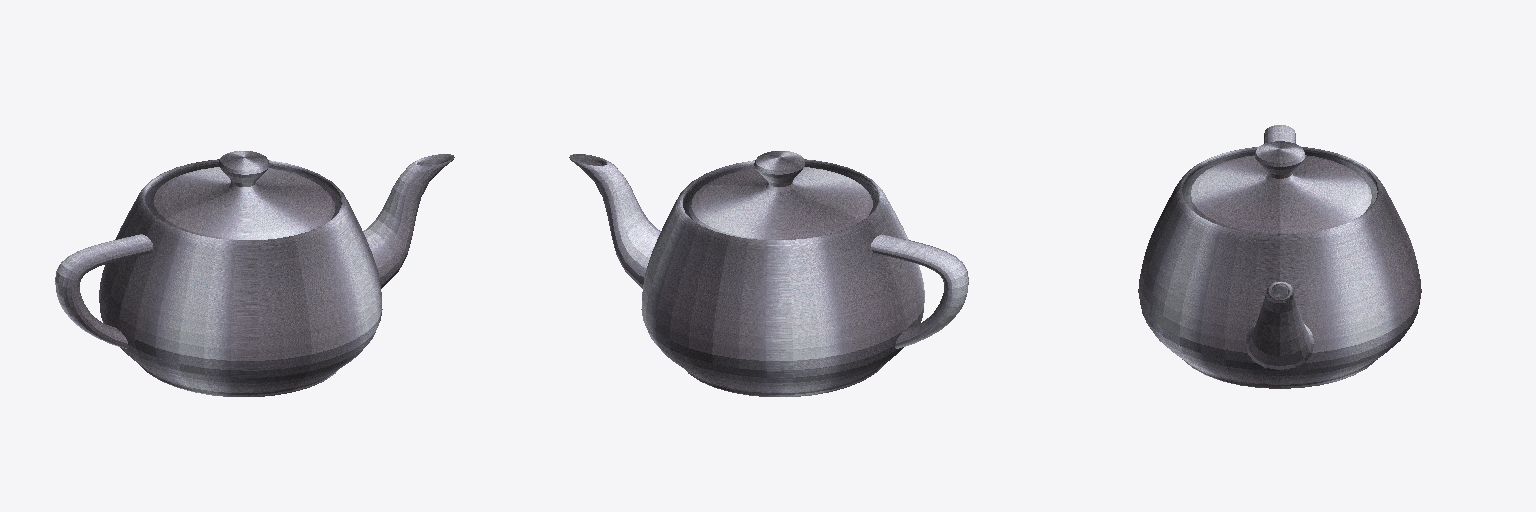
The picture shows the model from 3 angles: view 1: azimuth 30°, elevation 25°; view 2: azimuth 150°, elevation 25°; view 3: azimuth 270°, elevation 25°; orthographic projection.
Parts seen in each view (by area): view 1: Teapot001; view 2: Teapot001; view 3: Teapot001.
Boxes of the visible parts, <box> form: Teapot001: <box>55,151,454,396</box>; Teapot001: <box>569,151,968,396</box>; Teapot001: <box>1138,125,1421,388</box>.
Size of the model in its own units: 90.75 by 44.44 by 56.29.
Materials: 1 (1 with a texture image).